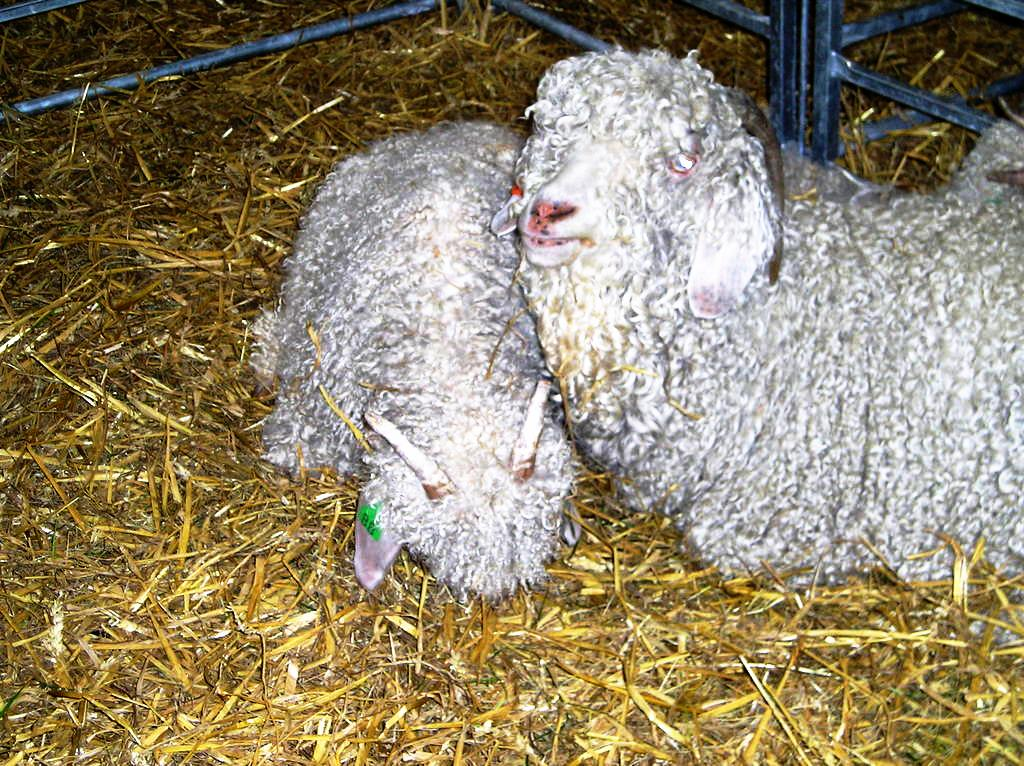Sheep: (480, 37, 1002, 608), (244, 120, 583, 610)
